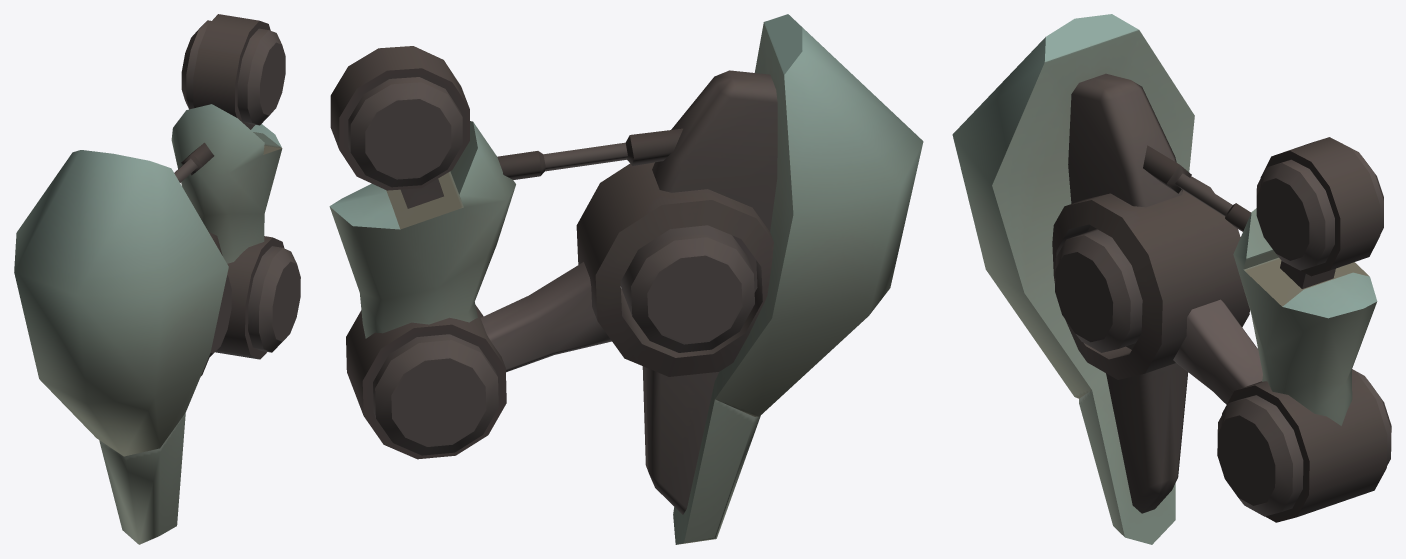
The model's file is Leg.obj.
The picture shows the model from 3 angles, left to right: view 1: azimuth 30°, elevation 25°; view 2: azimuth 150°, elevation 25°; view 3: azimuth 270°, elevation 25°; orthographic projection. The views are drawn at different scales.
Visible parts, largest first — view 1: Cube.003; view 2: Cube.003; view 3: Cube.003.
Part boxes in pixels (box(x1,y1,x2,y2)): Cube.003: box(14, 14, 300, 544); Cube.003: box(329, 14, 923, 544); Cube.003: box(952, 14, 1391, 544).
Bounding box in the file's own units: 0.8456 × 0.927 × 0.7588.
Materials: 1 (1 with a texture image).
